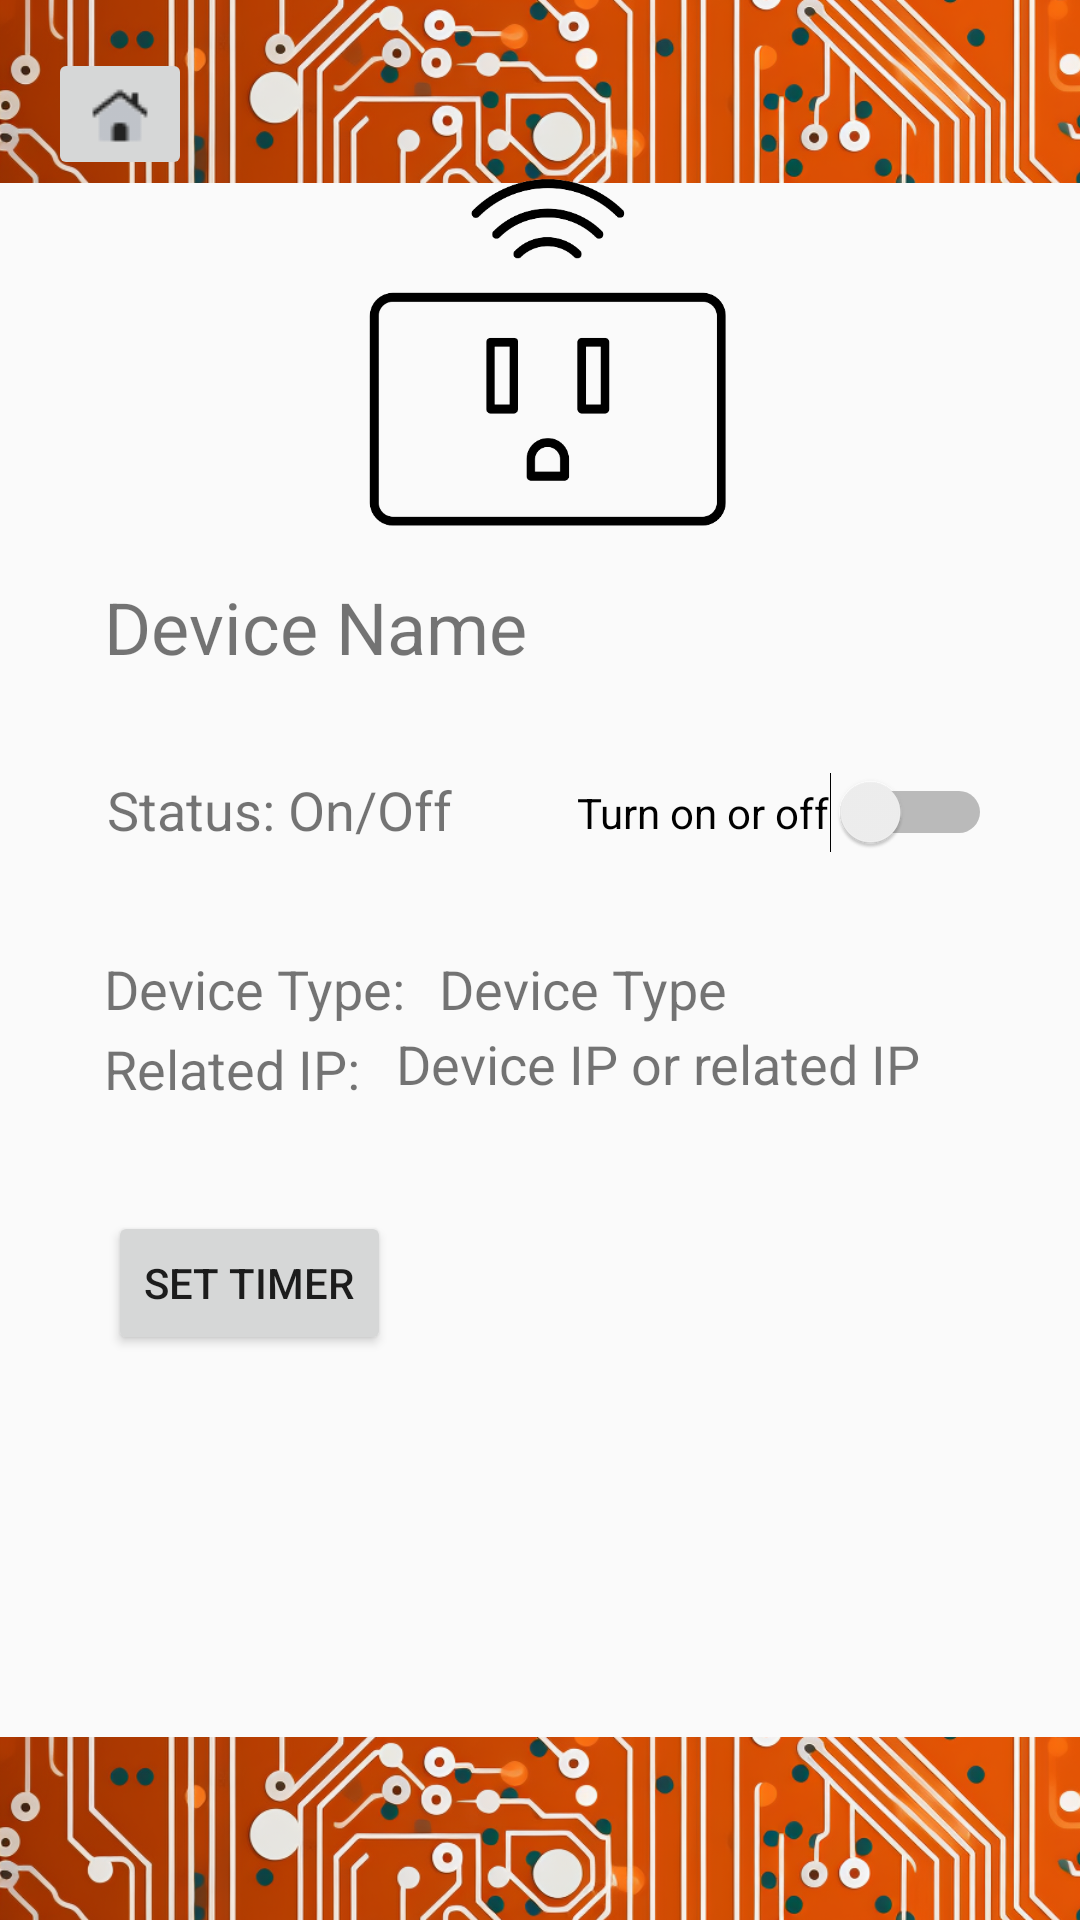

Screen size 1080px×1920px. Icon name, then its center in pixels as [x,y]:
home duotone: [120,114]
